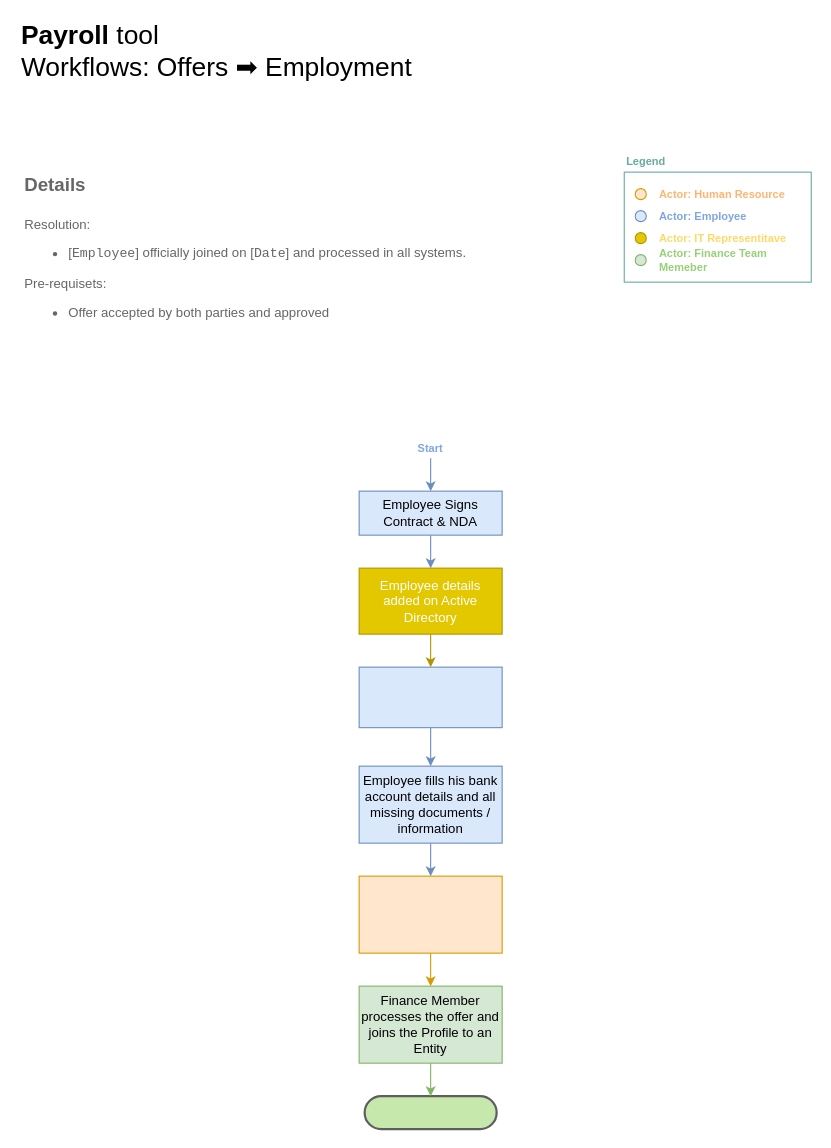
The diagram is 831 pixels wide and 1148 high, and some of its shapes have lost their labels. The shapes that lost their labels are listed below. From the top down, each one's box as (x1, y1, x2, y2) in pixels, then its label:
(358, 666, 502, 728): Employee recieves equipments (Laptop, etc)
(358, 875, 502, 953): HR submits missing details to systems ( including HRCode and final join date )
(363, 1094, 497, 1130): Employee Joined Entity
